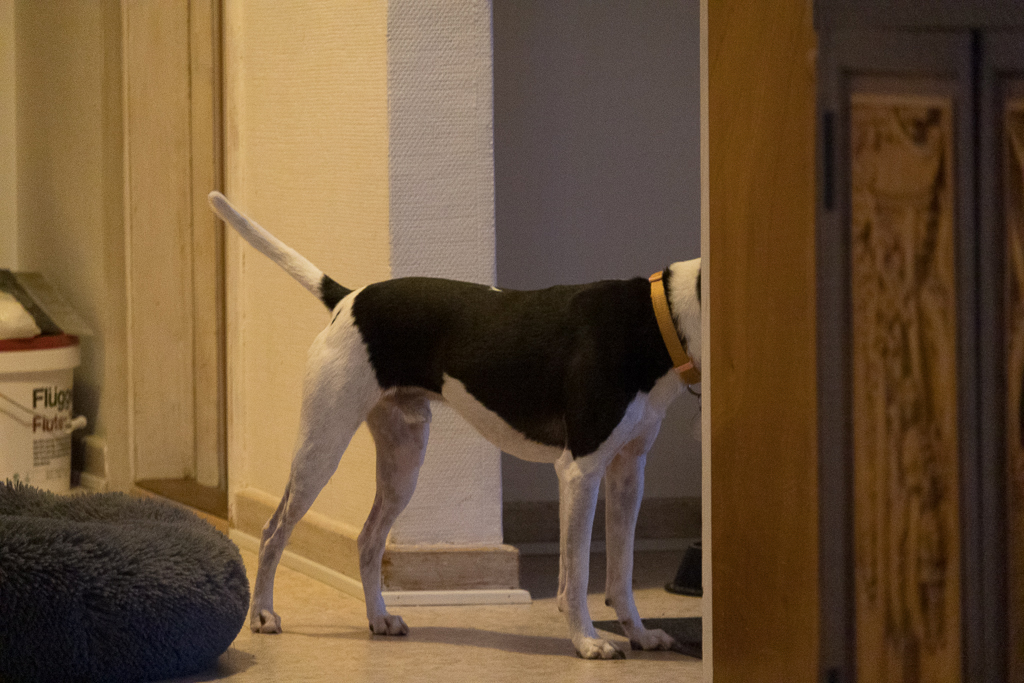Dog: (200, 177, 706, 669)
